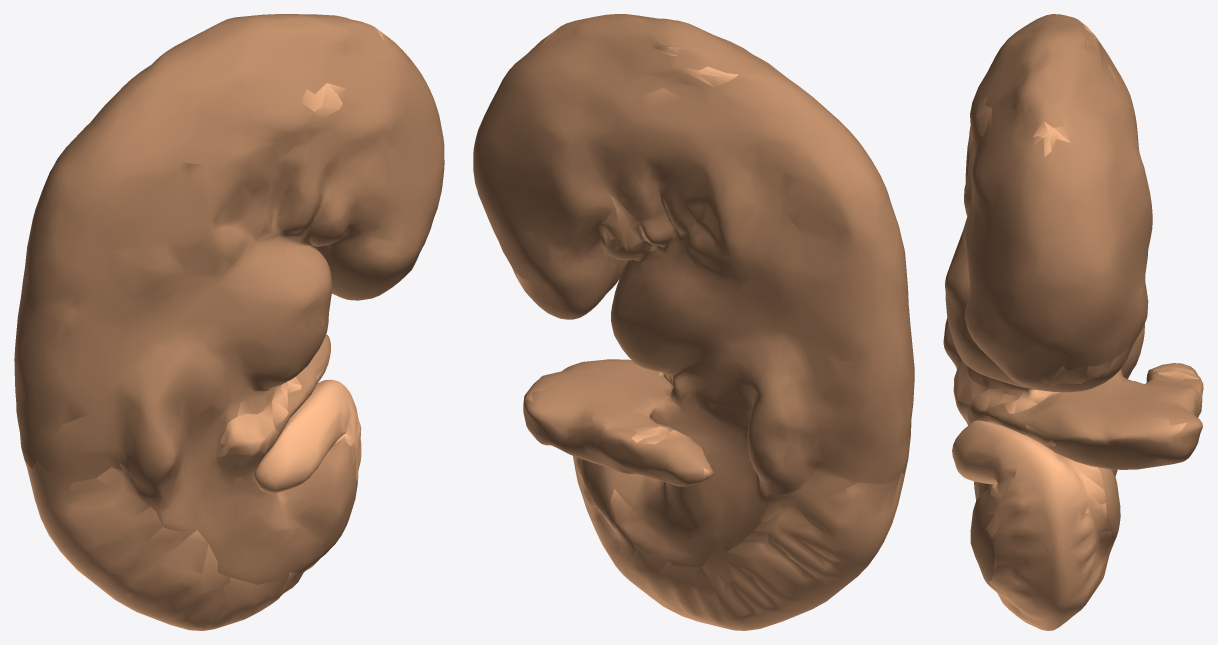
The model's file is Skin_Puzzle.fbx.
3 views of the same model, side by side, from view 1: azimuth 30°, elevation 25°; view 2: azimuth 150°, elevation 25°; view 3: azimuth 270°, elevation 25° (orthographic).
Visible parts, largest first — view 1: Skin; view 2: Skin; view 3: Skin.
Boxes of the visible parts, x1,y1,x2,y2 form: Skin: (14,14,444,630); Skin: (473,14,914,630); Skin: (943,14,1203,630).
Size of the model in its own units: 30.72 by 41.52 by 16.28.
